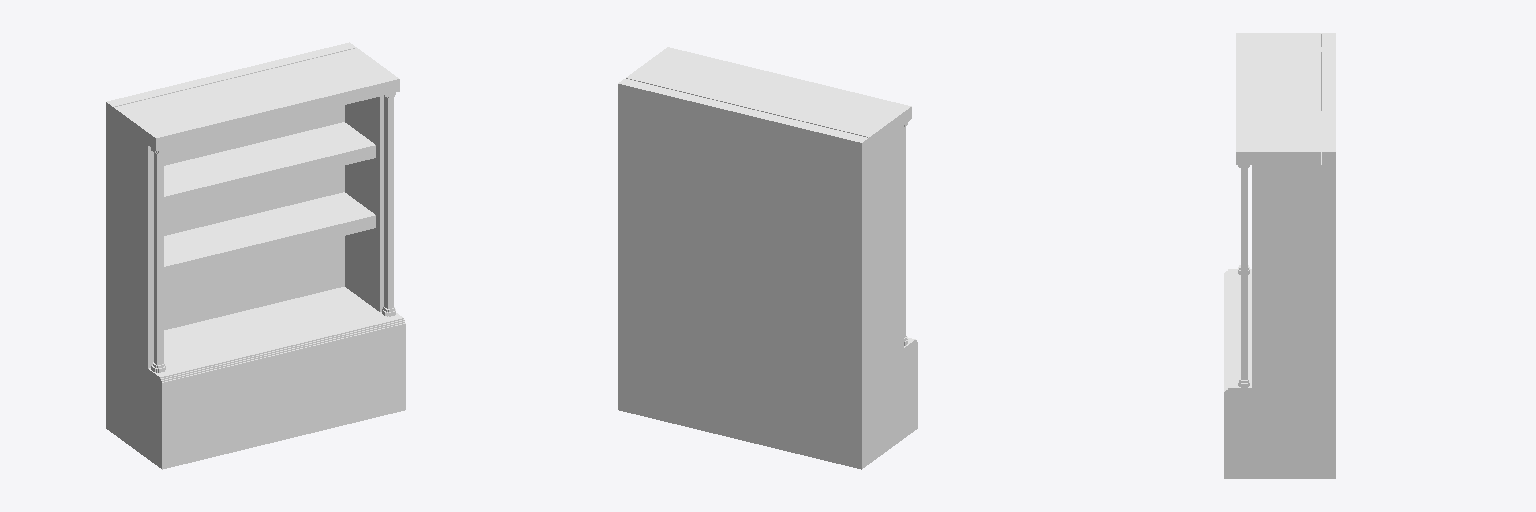
File: Drink_Shelf.obj
3 renders of one model, left to right at view 1: azimuth 30°, elevation 25°; view 2: azimuth 150°, elevation 25°; view 3: azimuth 270°, elevation 25°, orthographic.
Visible parts, largest first — view 1: object 1; view 2: object 1; view 3: object 1.
Part boxes in pixels (x1,y1,x2,y2): object 1: (106, 42, 405, 469); object 1: (618, 47, 917, 469); object 1: (1224, 33, 1335, 478).
Size of the model in its own units: 20 by 25.6 by 8.